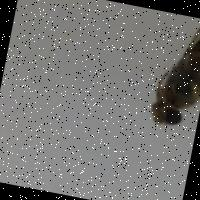Oriental-fruit-fly: (142, 10, 200, 132)
